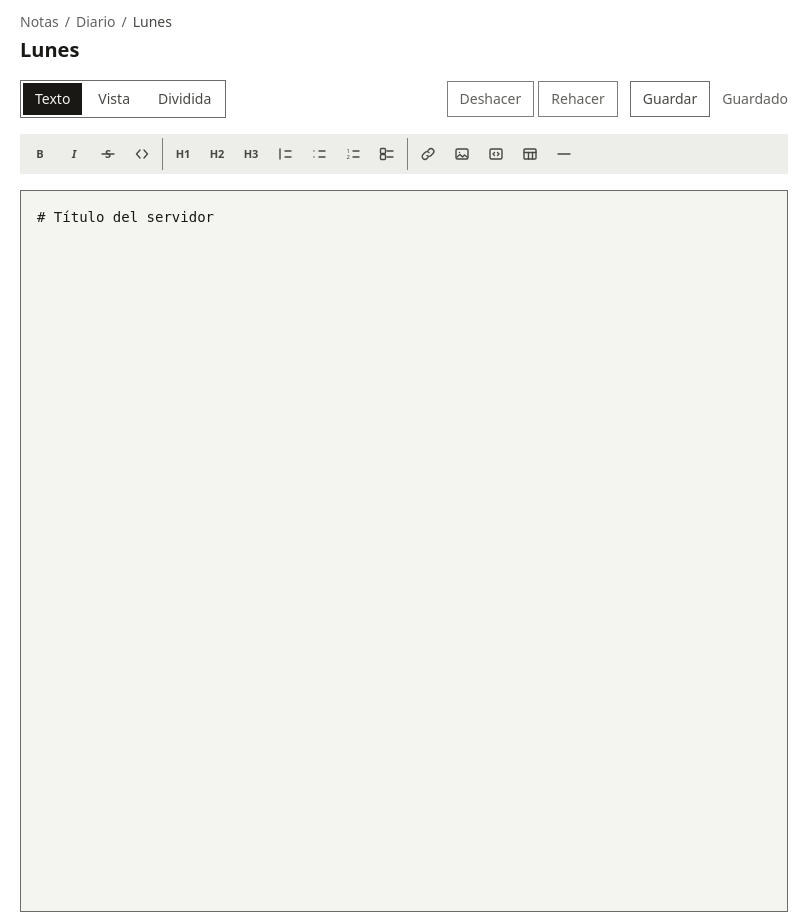
Test: DocumentEditorPage — estructura y accesibilidad (AC-22) › pone los errores de guardado en un role="alert" APARTE del role="status"
Type "algo" into the text box named "Texto de «Lunes»". click: (404, 551)
box: [20,190,788,911]
Wait 1500 ms
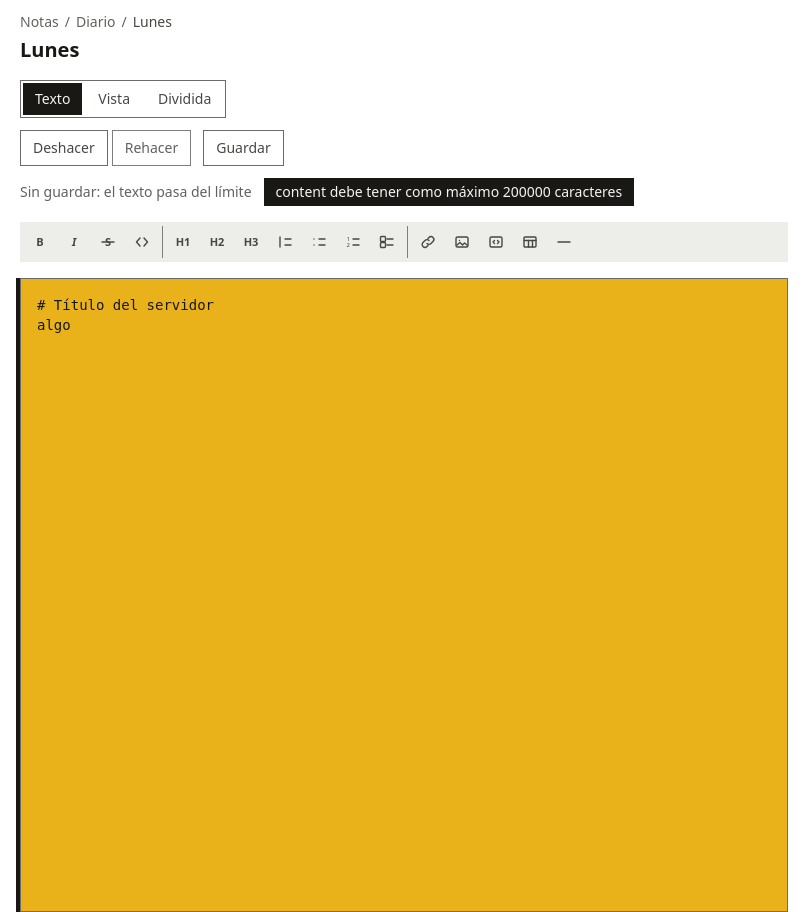
expect the message named "Estado del guardado" does not show "content debe tener como máximo 200000 caracteres": met, box [20,182,252,202]
expect the message "content debe tener como máximo 200000 caracteres" is shown: met, box [264,178,634,206]
